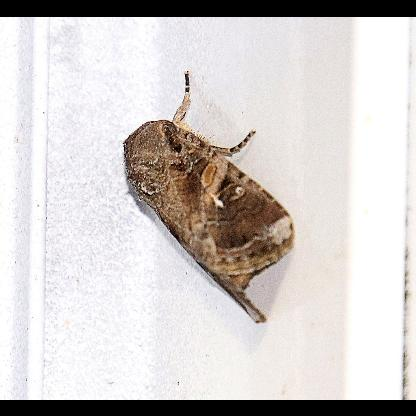Fall Armyworm Moth: (119, 66, 298, 326)
